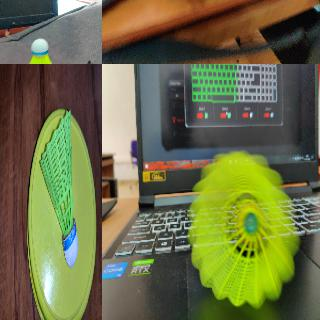shuttlecock: (186, 148, 300, 306), (39, 110, 78, 268), (21, 37, 60, 63)
